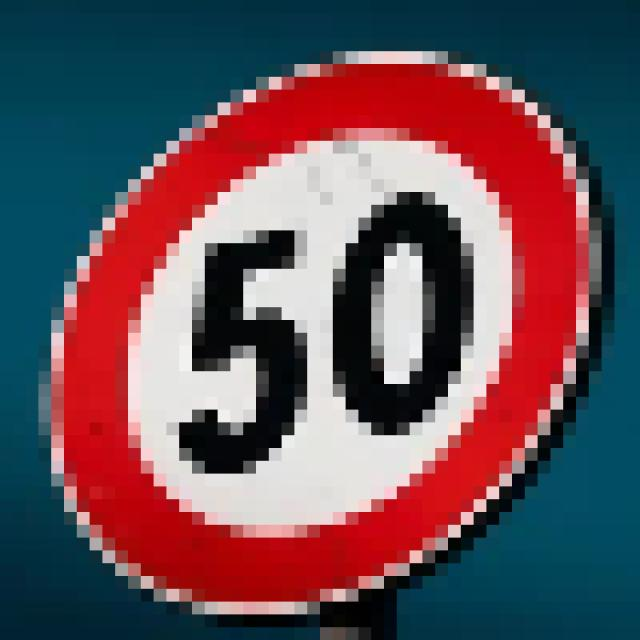Limite-50: (48, 50, 606, 618)
